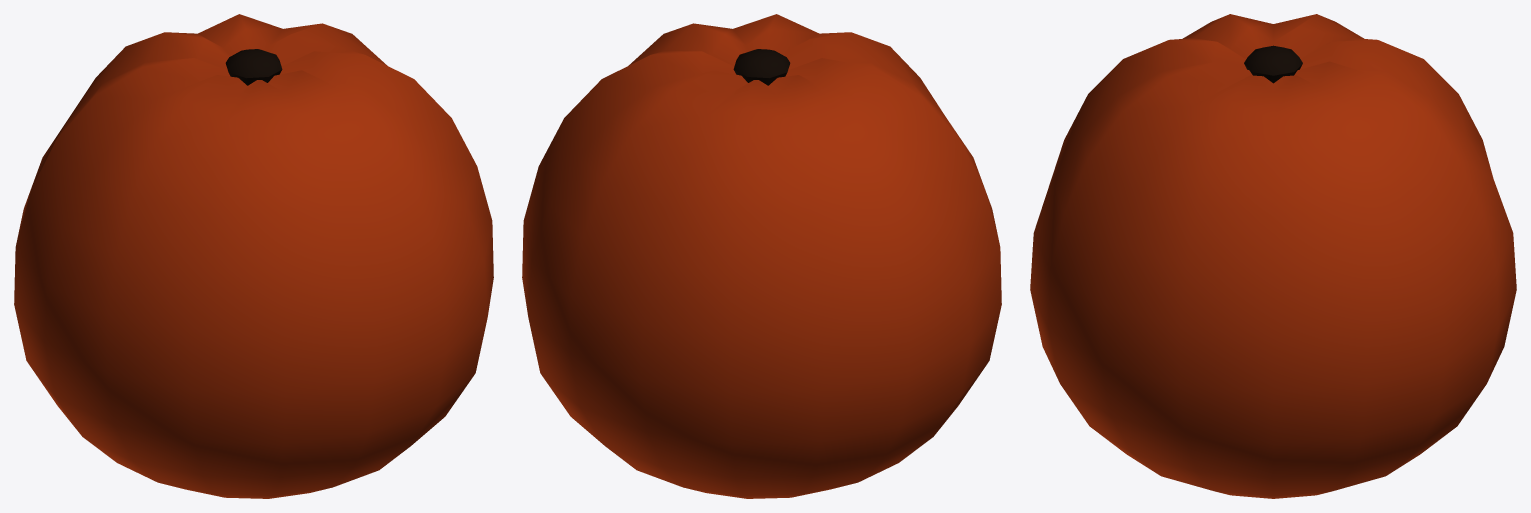
The model's file is Orange.FBX.
3 renders of one model, left to right at view 1: azimuth 30°, elevation 25°; view 2: azimuth 150°, elevation 25°; view 3: azimuth 270°, elevation 25°, orthographic.
Visible parts, largest first — view 1: Orange; view 2: Orange; view 3: Orange.
Part boxes in pixels (left/top/right/bottom): Orange: left=14, top=14, right=493, bottom=498; Orange: left=522, top=14, right=1001, bottom=498; Orange: left=1030, top=14, right=1516, bottom=498.
Size of the model in its own units: 1073 by 1073 by 1012.
